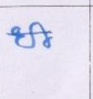i_matra: (32, 21, 52, 48)
